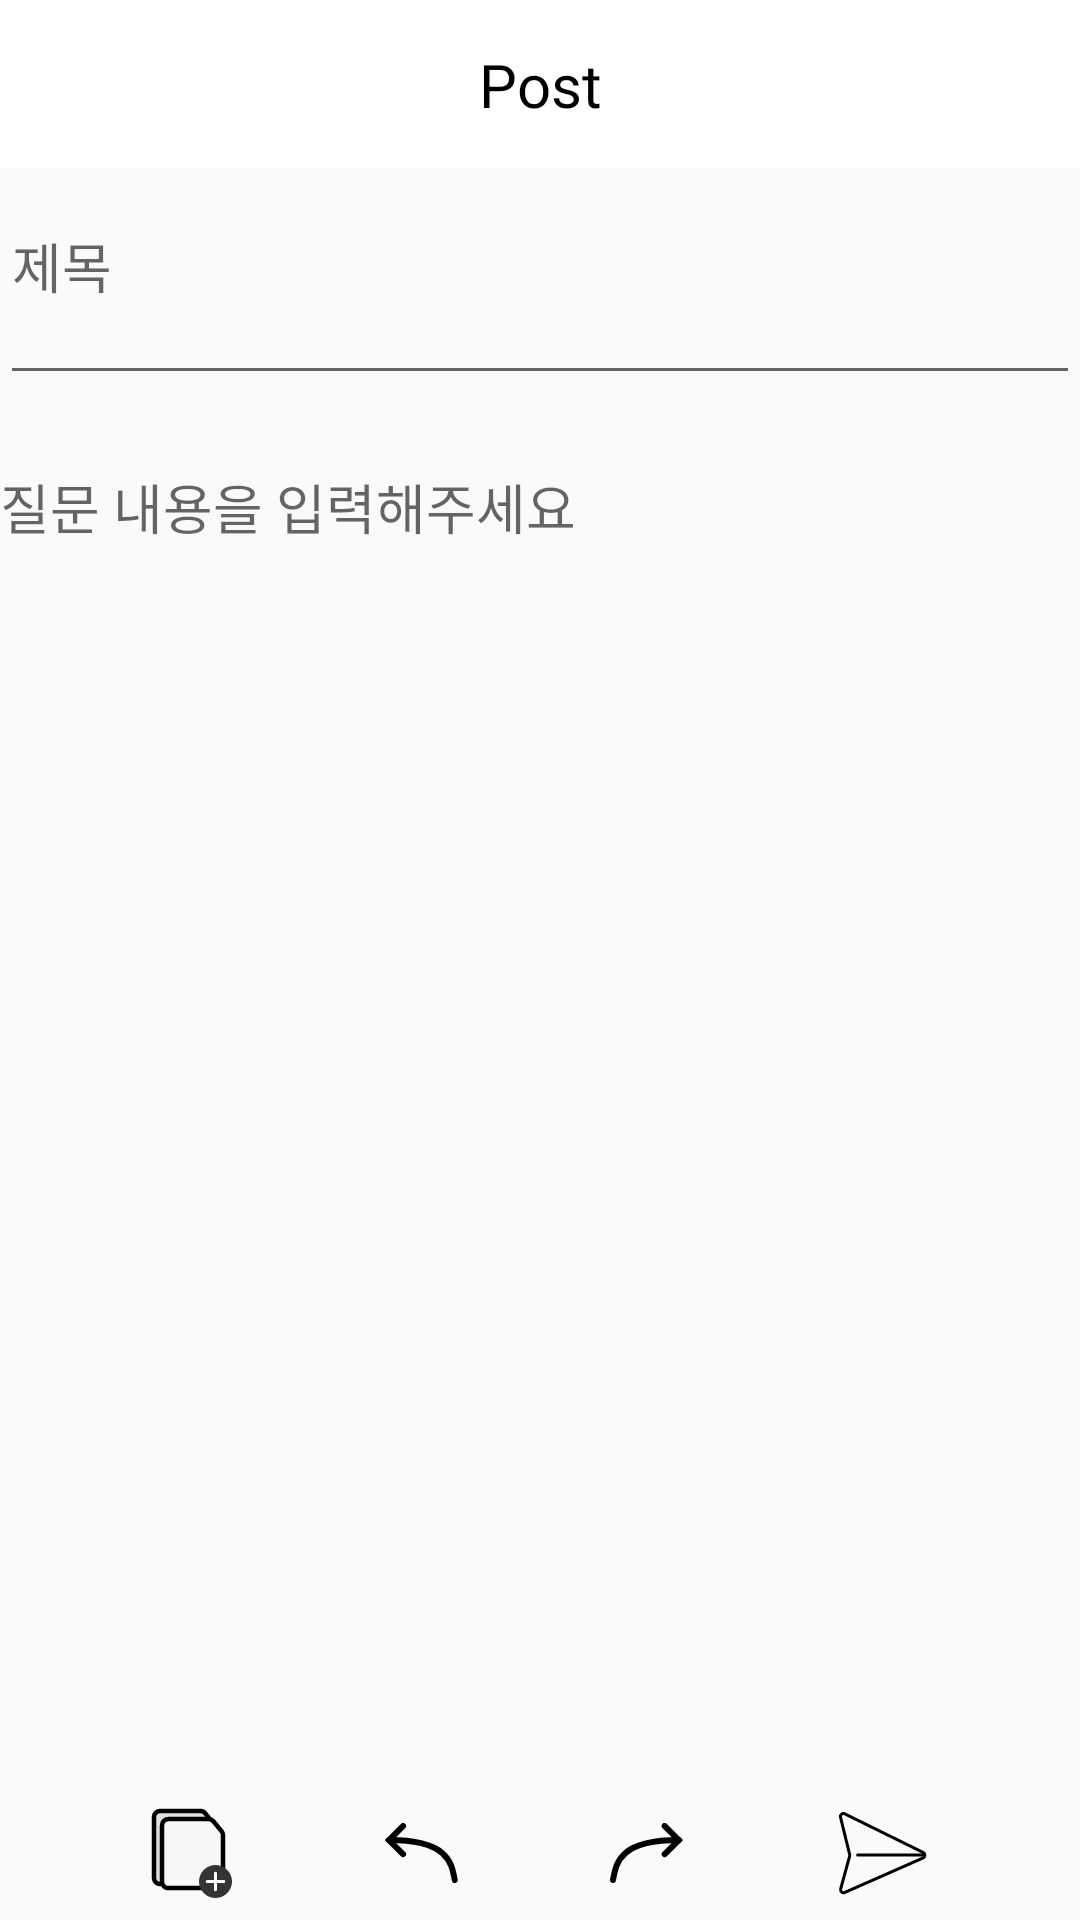

Named icons in this screenshot (1080w x 1920h) and their centers, point (x, y):
back: point (421, 1853)
fileadd: point (191, 1853)
post: point (883, 1853)
